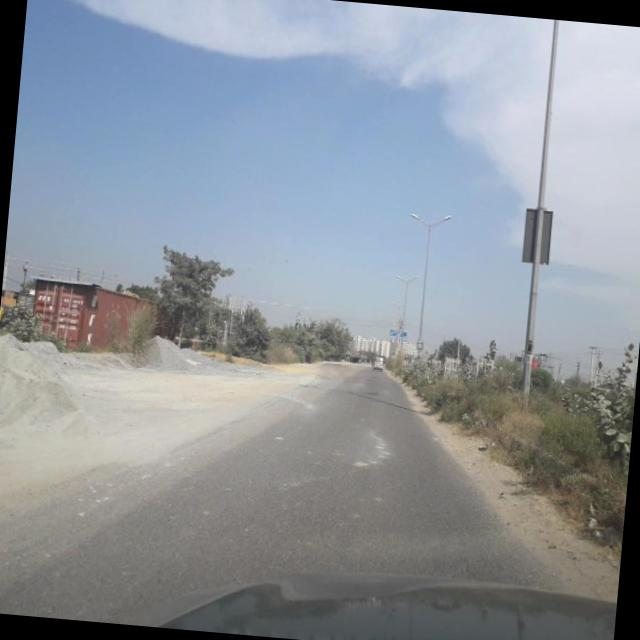pothole: (424, 497, 490, 580)
